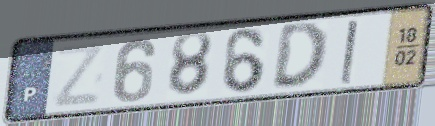6: (220, 26, 269, 97), (111, 36, 158, 105)
8: (165, 31, 216, 101)
D: (269, 20, 330, 92)
I: (338, 17, 360, 87)
Z: (50, 40, 107, 110)
